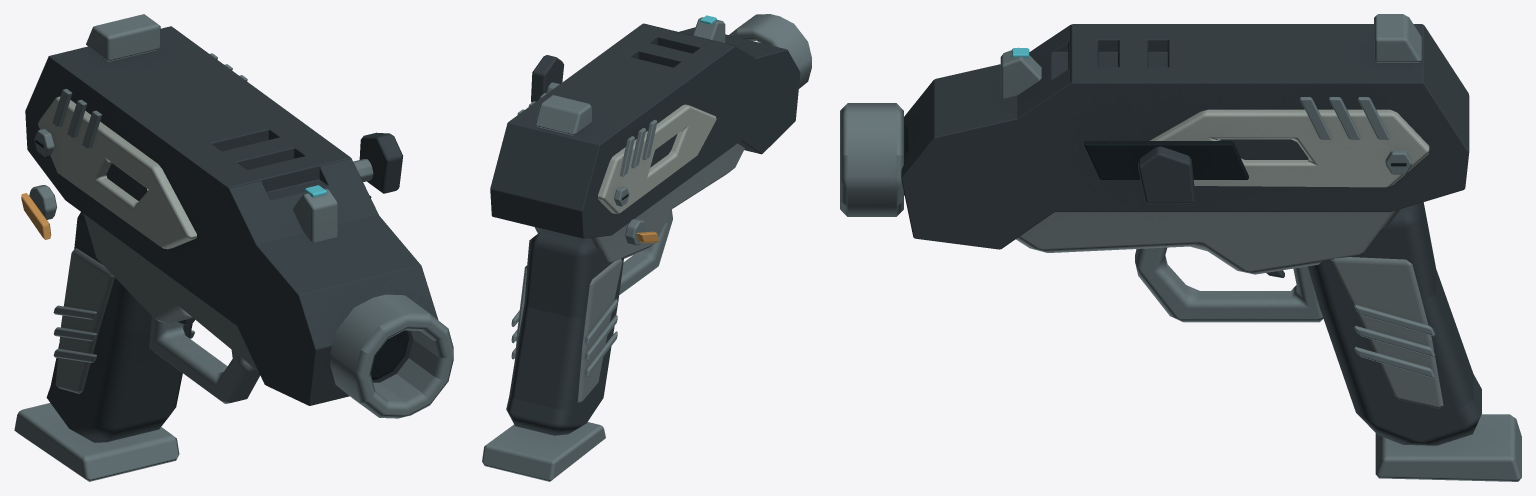
Rendered from pistol.glb.
3 views of the same model, side by side, from view 1: azimuth 30°, elevation 25°; view 2: azimuth 150°, elevation 25°; view 3: azimuth 270°, elevation 25° (orthographic). The views are drawn at different scales.
Visible parts, largest first — view 1: pistol-ka12-arsenal; view 2: pistol-ka12-arsenal; view 3: pistol-ka12-arsenal.
Boxes of the visible parts, left/top/right/bottom form: pistol-ka12-arsenal: left=14, top=14, right=453, bottom=481; pistol-ka12-arsenal: left=482, top=14, right=811, bottom=481; pistol-ka12-arsenal: left=840, top=14, right=1521, bottom=481.
Bounding box in the file's own units: 0.3435 × 0.5798 × 0.8219.
1 material, 1 textured.
